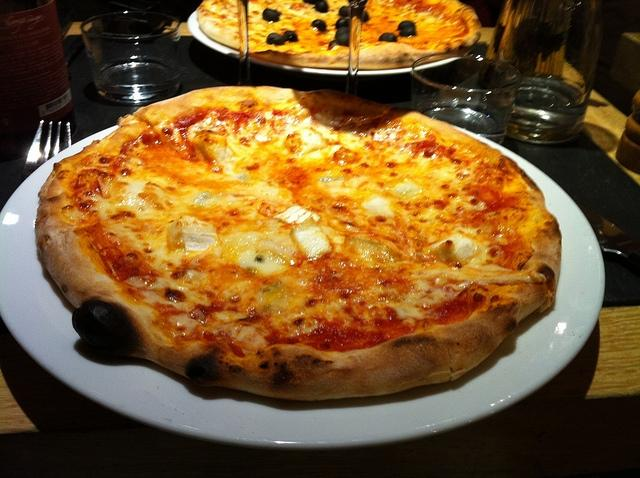onion: (289, 217, 334, 265), (169, 216, 217, 252), (426, 234, 476, 263), (238, 250, 285, 275), (272, 206, 320, 224), (194, 190, 220, 208), (394, 183, 420, 194)
